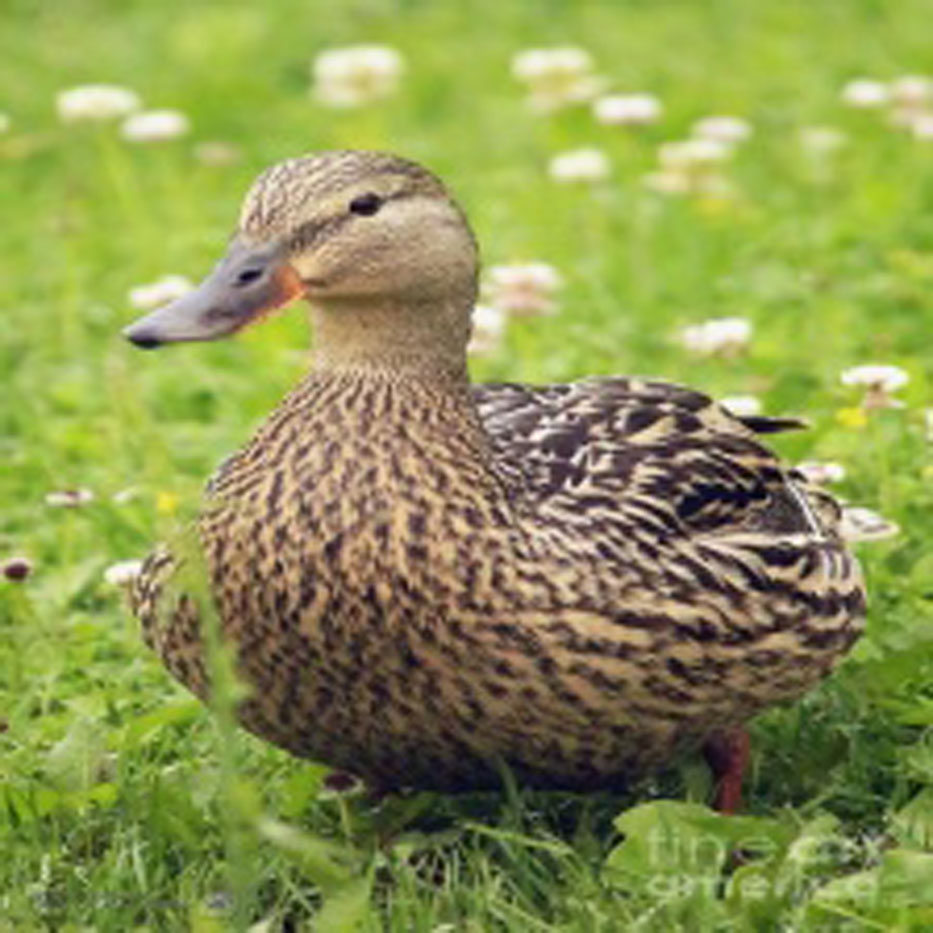Mencari Makan di Lumpur: (101, 245, 318, 349)
